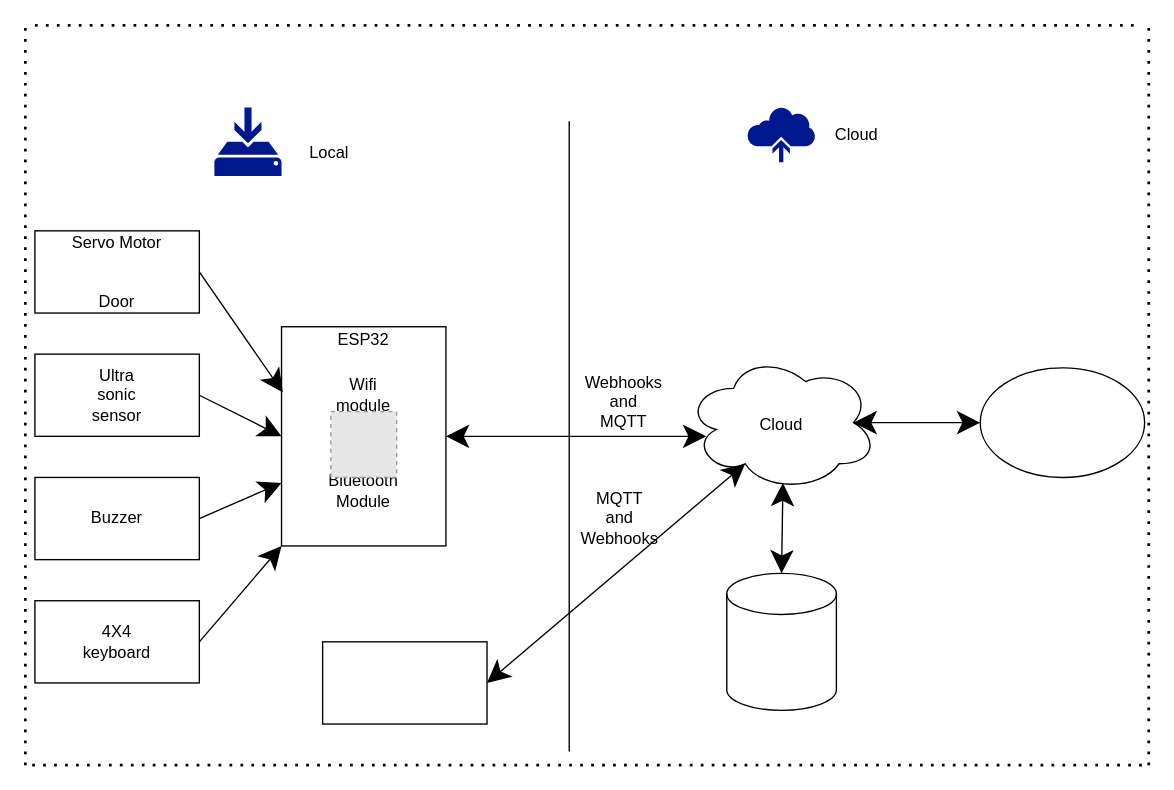
Image size: 1174x790. Some labels were removed from this diagram. Grey dashed boxes stand in for pictures. Each missing label, with the centre of its shape:
Data Analytics: (x=1062, y=421)
Database: (x=780, y=641)
Web App or Mobile App: (x=404, y=682)
